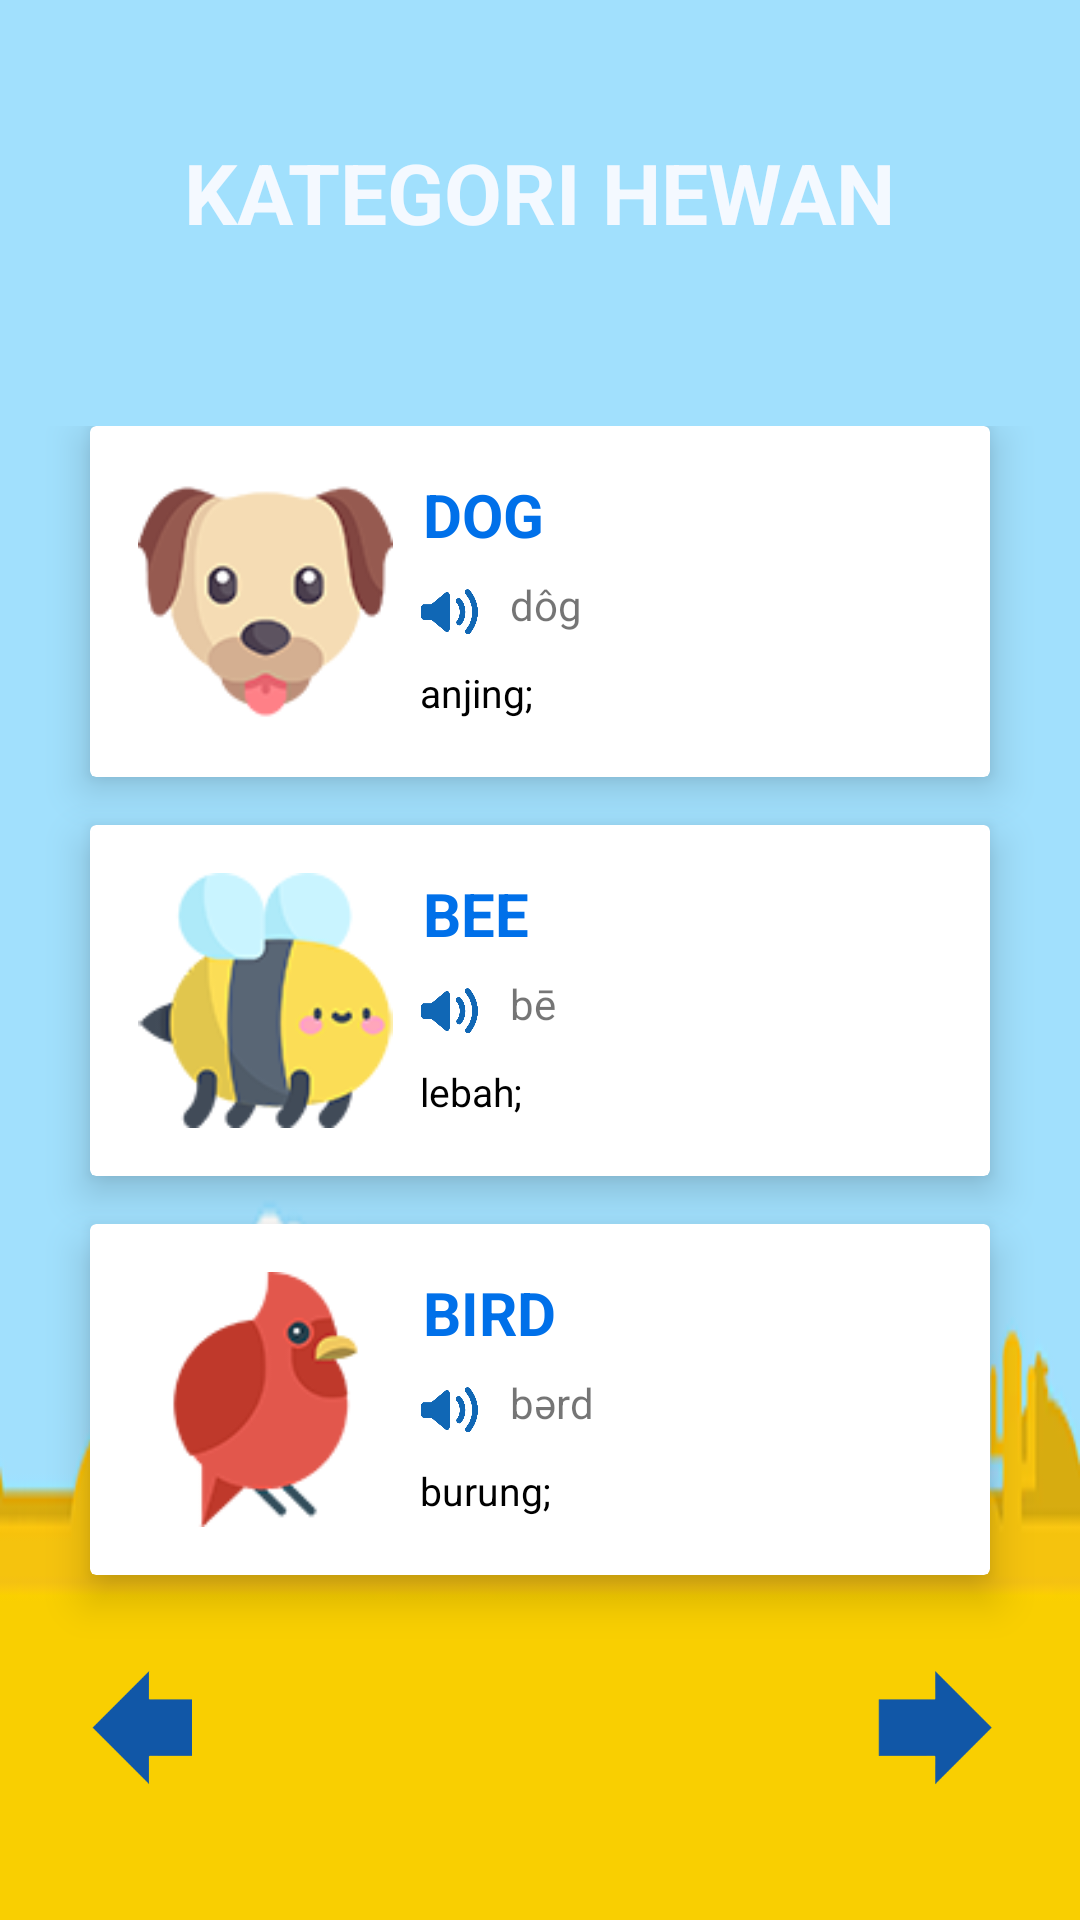

Where to tap for icons on this 1080x1920 app screen, as (x,y):
audio: (449,611), (449,1010), (449,1409)
panahnext: (935,1727)
